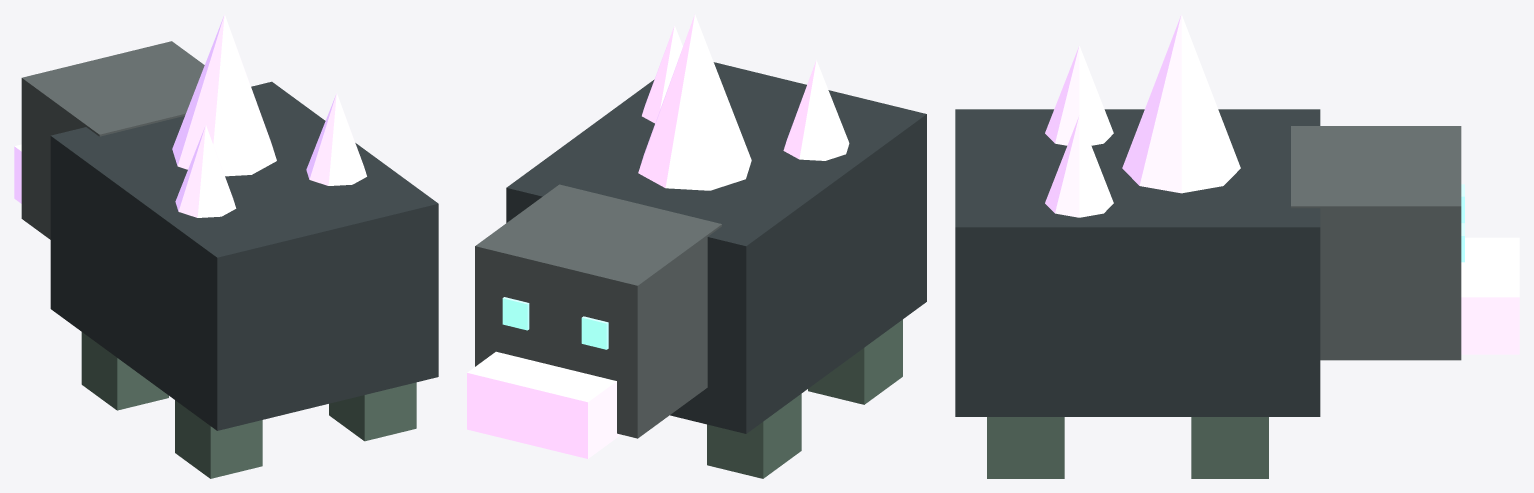
Rendered from spirit_gnawer.glb.
3 renders of one model, left to right at view 1: azimuth 30°, elevation 25°; view 2: azimuth 150°, elevation 25°; view 3: azimuth 270°, elevation 25°, orthographic. The views are drawn at different scales.
Parts seen in each view (by area): view 1: spirit_gnawer; view 2: spirit_gnawer; view 3: spirit_gnawer.
Boxes of the visible parts, left/top/right/bottom form: spirit_gnawer: left=14, top=14, right=438, bottom=478; spirit_gnawer: left=467, top=14, right=926, bottom=478; spirit_gnawer: left=955, top=14, right=1519, bottom=478.
Size of the model in its own units: 1.15 by 1.86 by 2.32.
Materials: 5 (5 with a texture image).
